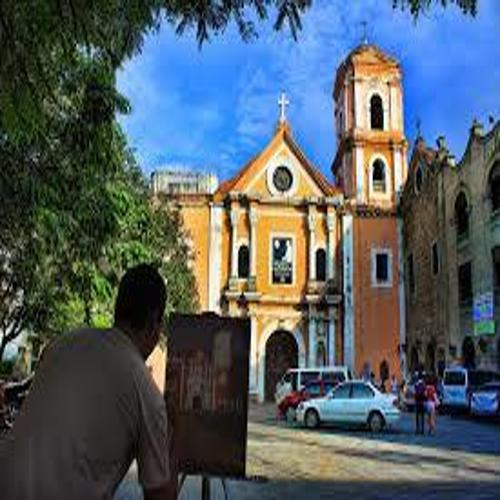San Agustin Church: (199, 11, 417, 433)
